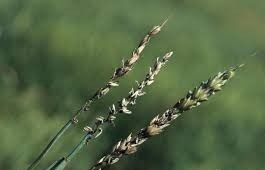Wheat Loose Smut: (98, 34, 225, 165)
